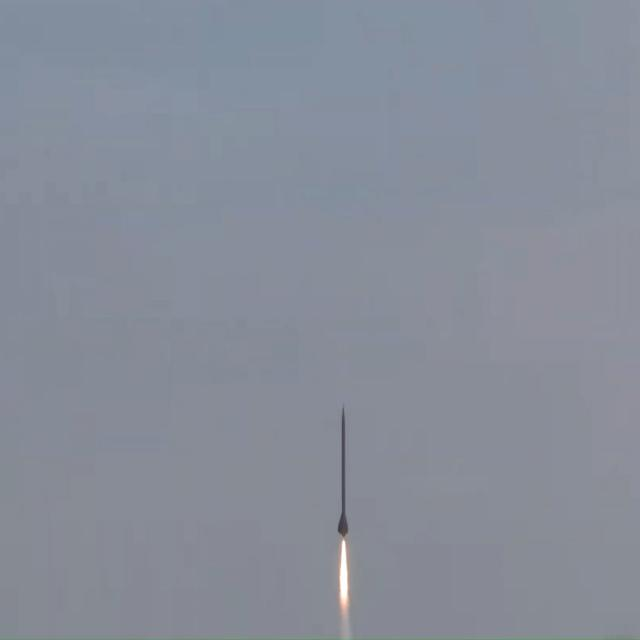Rocket: (338, 402, 348, 538)
